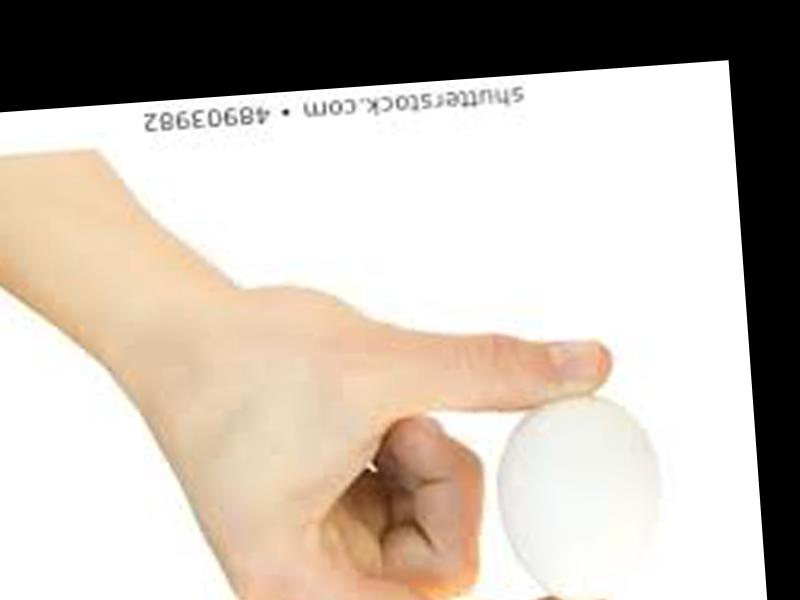Eggs: (490, 388, 664, 600)
